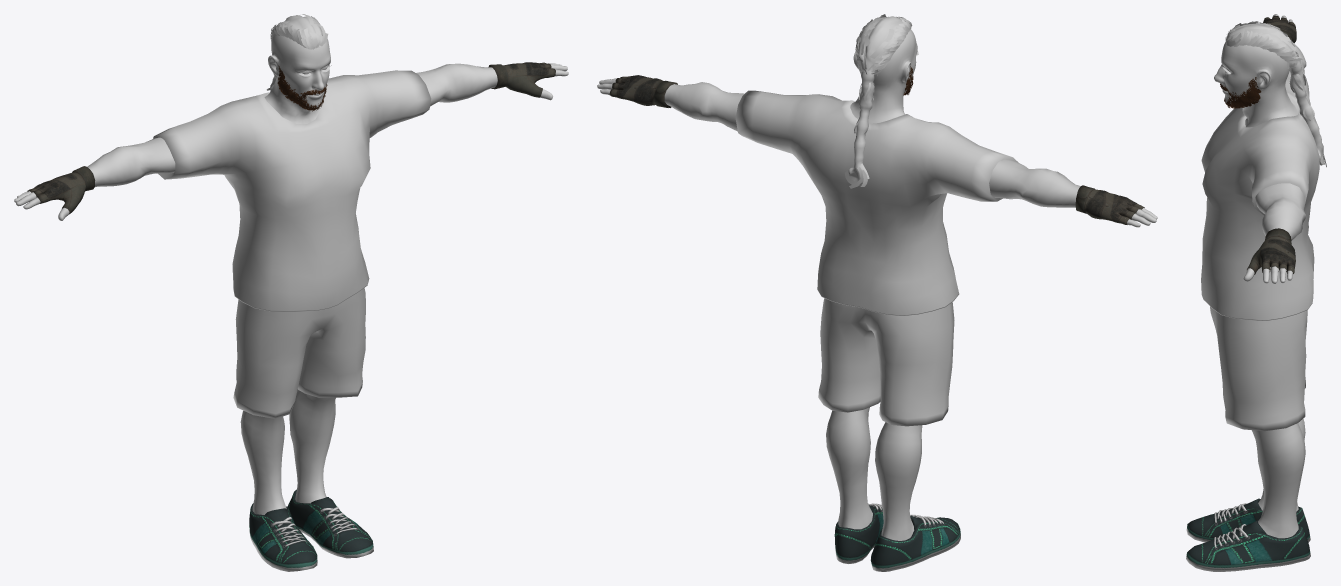
File: male body builder playable.obj
3 views of the same model, side by side, from view 1: azimuth 30°, elevation 25°; view 2: azimuth 150°, elevation 25°; view 3: azimuth 270°, elevation 25° (orthographic).
Visible parts, largest first — view 1: Tops, Body, Bottoms, Shoes, Gloves, Hair; view 2: Tops, Body, Bottoms, Shoes, Hair, Gloves; view 3: Tops, Body, Bottoms, Shoes, Hair, Gloves, Beards.
Part boxes in pixels (<box>): Tops: <box>153,70,431,311</box>; Body: <box>14,35,568,514</box>; Bottoms: <box>233,288,365,418</box>; Shoes: <box>249,489,373,571</box>; Gloves: <box>27,62,555,214</box>; Hair: <box>266,14,328,91</box>; Tops: <box>735,90,1018,315</box>; Body: <box>597,29,1157,540</box>; Bottoms: <box>818,298,954,426</box>; Shoes: <box>834,503,960,571</box>; Hair: <box>845,14,912,188</box>; Gloves: <box>609,75,1144,224</box>; Tops: <box>1201,69,1319,320</box>; Body: <box>1214,14,1306,538</box>; Bottoms: <box>1210,306,1307,431</box>; Shoes: <box>1186,498,1310,571</box>; Hair: <box>1225,21,1326,167</box>; Gloves: <box>1247,15,1296,274</box>; Beards: <box>1224,77,1261,108</box>.
Size of the model in its own units: 195 by 176 by 42.99.
